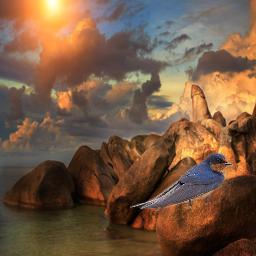Swallow: (130, 152, 233, 211)
